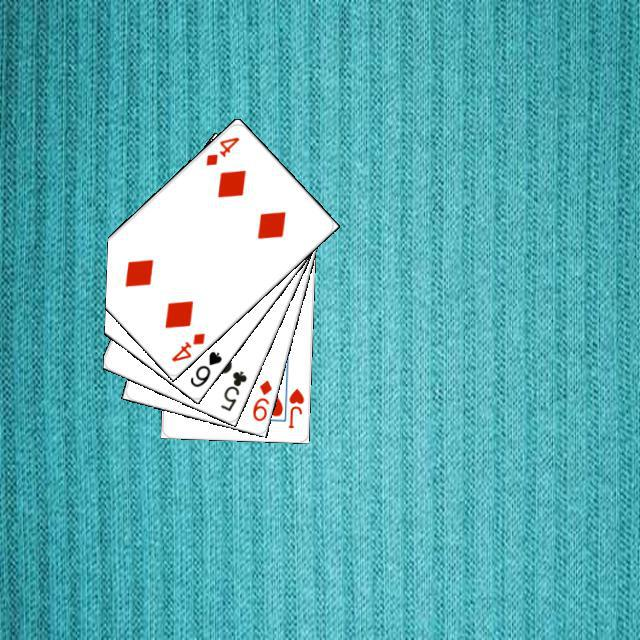4d: (200, 132, 241, 168), (166, 328, 207, 363)
5c: (215, 366, 249, 413)
6s: (185, 346, 224, 389)
9d: (247, 375, 274, 423)
Jh: (283, 383, 305, 430)
